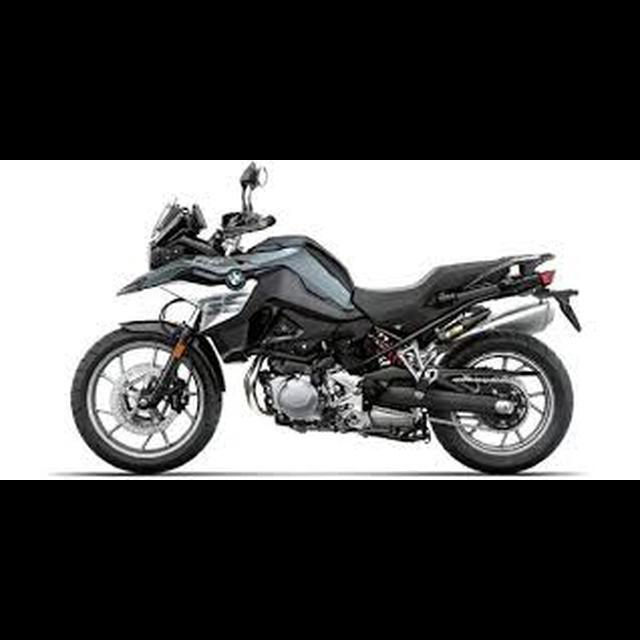motorcycle: (69, 157, 583, 479)
